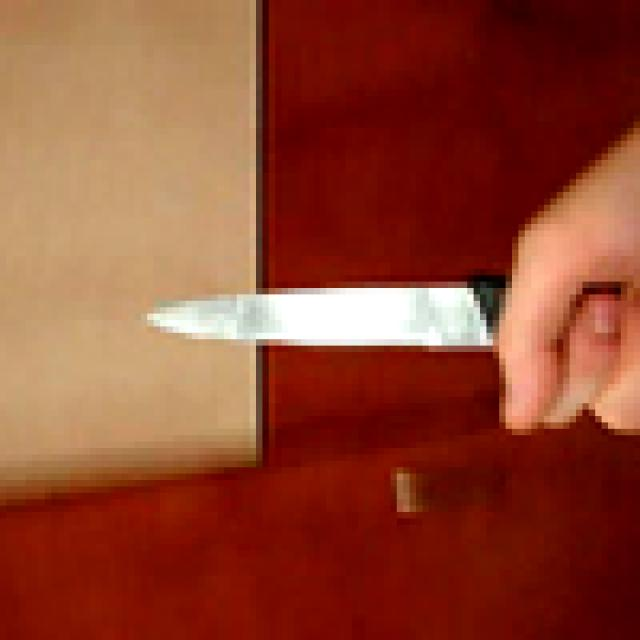Weapons: (136, 279, 531, 355)
